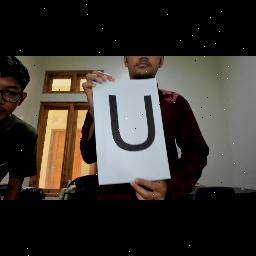u: (104, 86, 164, 162)
